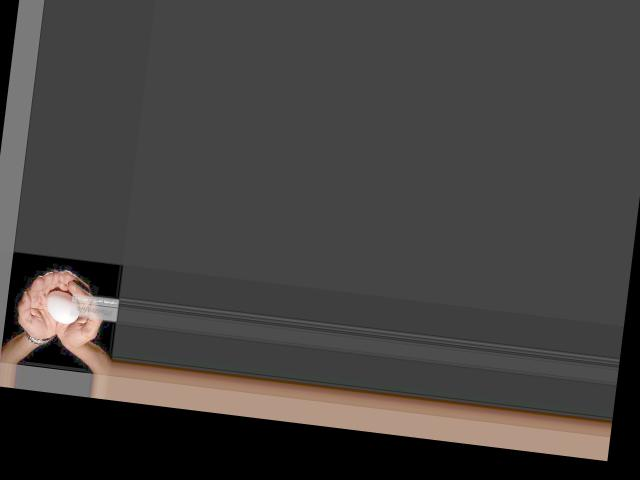egg: (43, 288, 80, 324)
